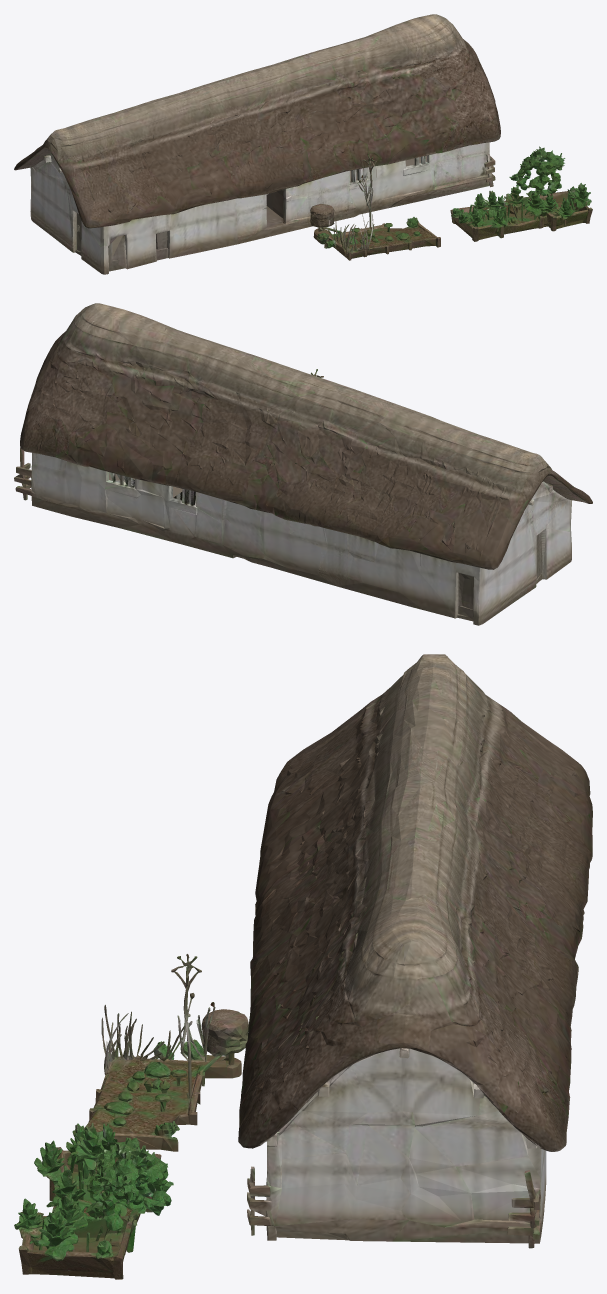
The model's file is longhouse_hendre_r_ywydd_uchaf_a.meshy.reduced.glb.
3 renders of one model, top to bottom at view 1: azimuth 30°, elevation 25°; view 2: azimuth 150°, elevation 25°; view 3: azimuth 270°, elevation 25°, orthographic. The views are drawn at different scales.
Size of the model in its own units: 1.9 by 0.6038 by 1.11.
Materials: 1 (1 with a texture image).
